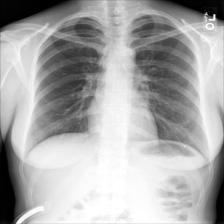normal: (26, 12, 213, 162)
